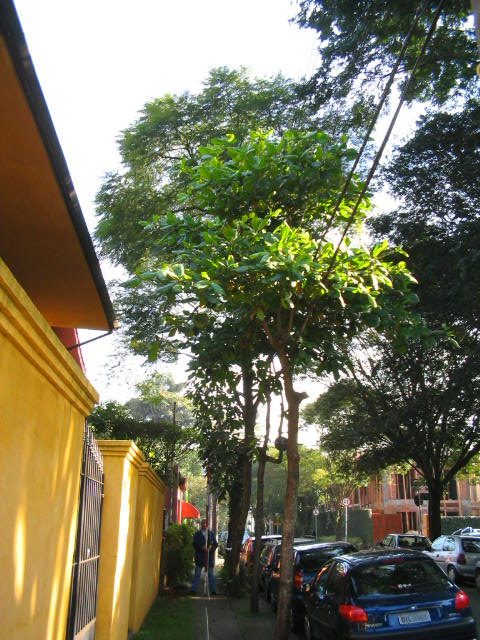crown: (94, 64, 376, 403)
stem: (218, 420, 254, 595), (415, 487, 451, 538)
stick: (200, 464, 216, 597)
tree: (91, 63, 377, 596), (346, 325, 478, 539)
